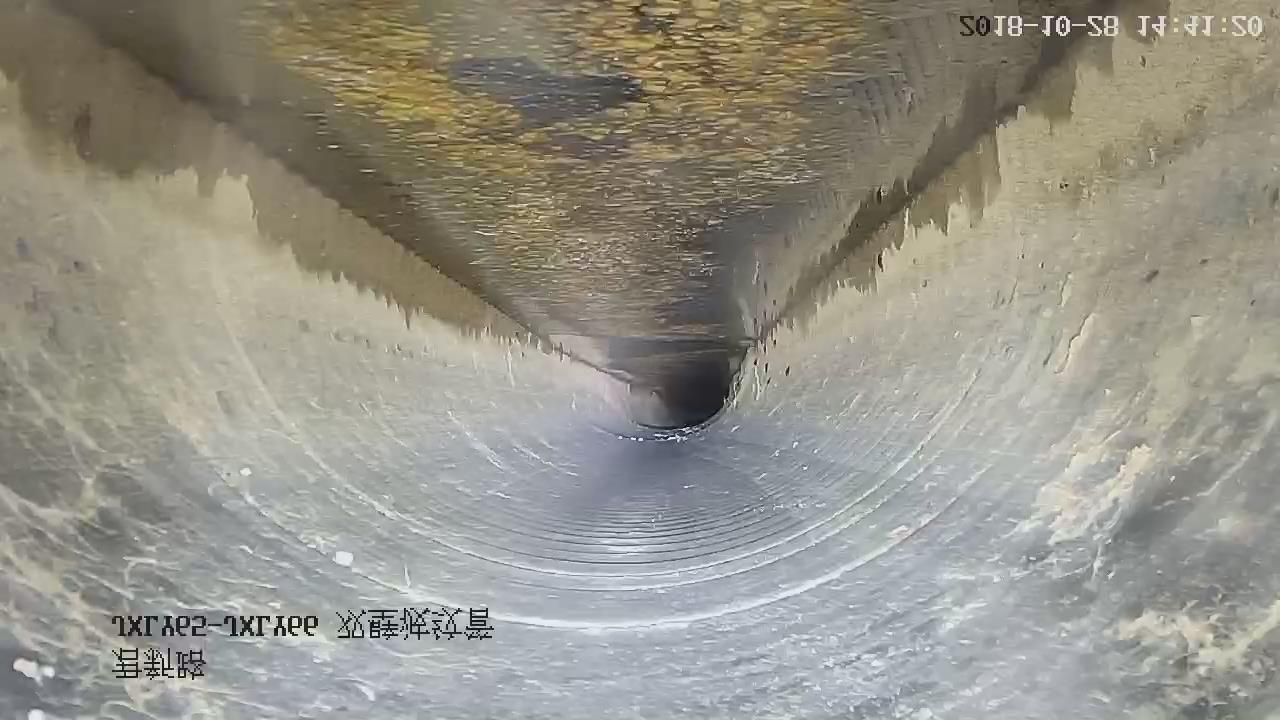FZ: (62, 1, 1037, 388)
